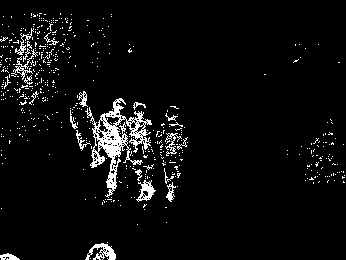person: (125, 99, 159, 206), (67, 85, 106, 174), (97, 96, 129, 202), (157, 104, 188, 202)
